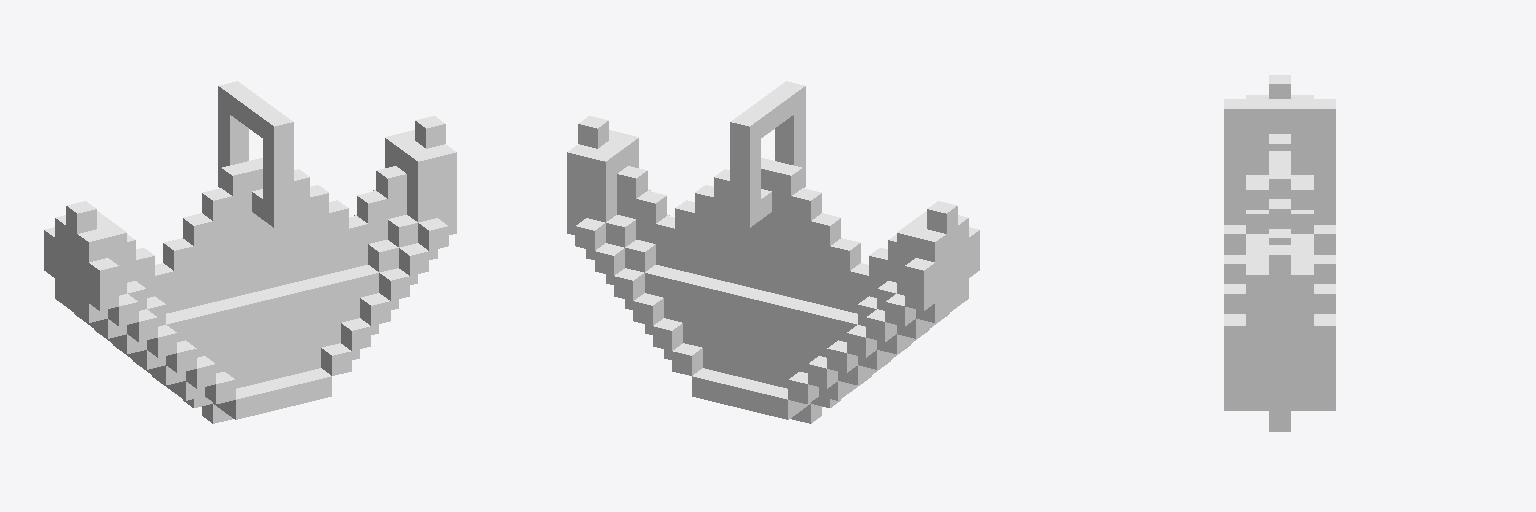
Rendered from hojadehacha.obj.
The picture shows the model from 3 angles: view 1: azimuth 30°, elevation 25°; view 2: azimuth 150°, elevation 25°; view 3: azimuth 270°, elevation 25°; orthographic projection.
Visible parts, largest first — view 1: object 1; view 2: object 1; view 3: object 1.
Part boxes in pixels (left/top/right/bottom): object 1: left=44, top=81, right=456, bottom=423; object 1: left=567, top=81, right=979, bottom=423; object 1: left=1224, top=75, right=1335, bottom=431.
Size of the model in its own units: 1.9 by 1.5 by 0.5.